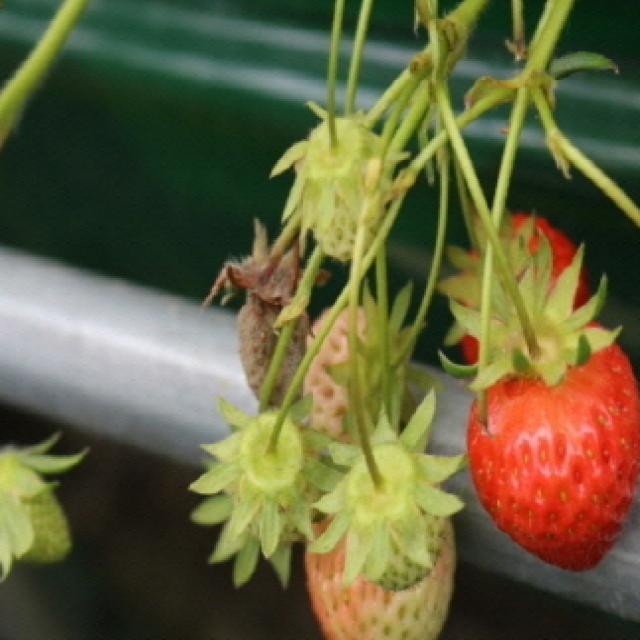Gray Mold: (205, 219, 331, 410)
